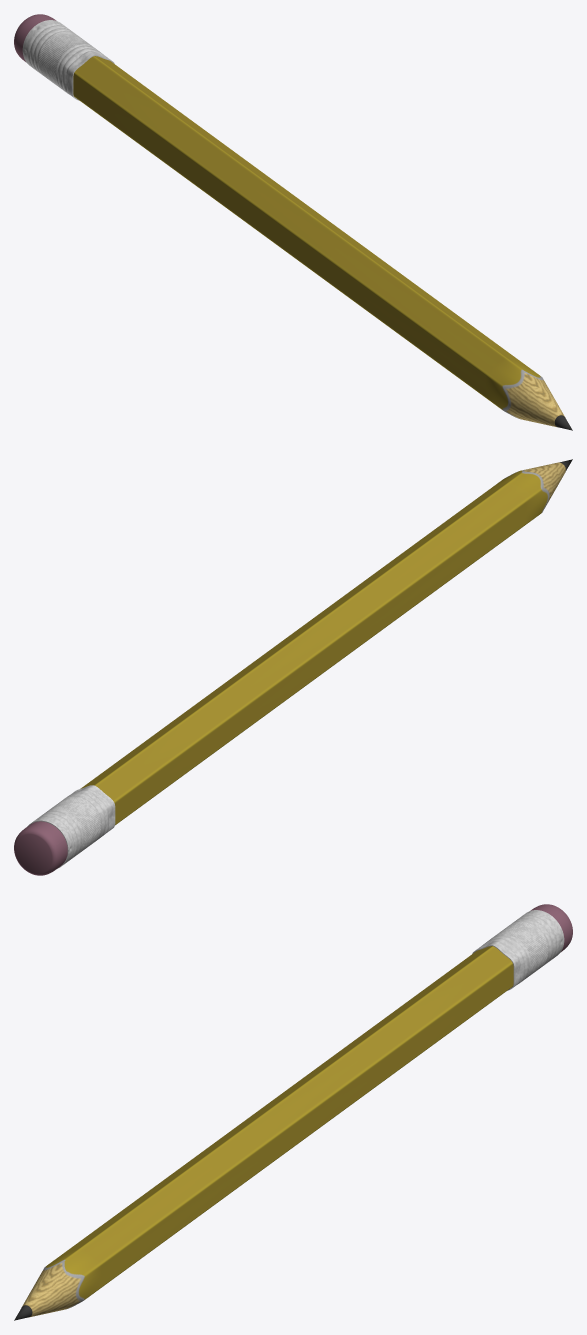
File: pencil.glb
3 views of the same model, one above another, from view 1: azimuth 30°, elevation 25°; view 2: azimuth 150°, elevation 25°; view 3: azimuth 330°, elevation 25° (orthographic).
Visible parts, largest first — view 1: pencil beta.008; view 2: pencil beta.008; view 3: pencil beta.008.
Part boxes in pixels (box(x1,y1,x2,y2)): pencil beta.008: box(14, 14, 572, 430); pencil beta.008: box(14, 459, 572, 875); pencil beta.008: box(14, 904, 572, 1320).
Size of the model in its own units: 2 by 2.05 by 40.77.
1 material, 1 textured.
